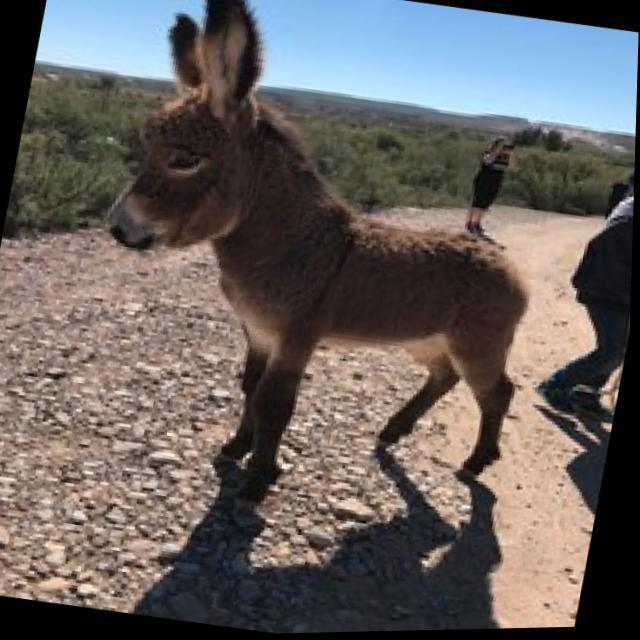Donkey: (27, 0, 613, 573)
